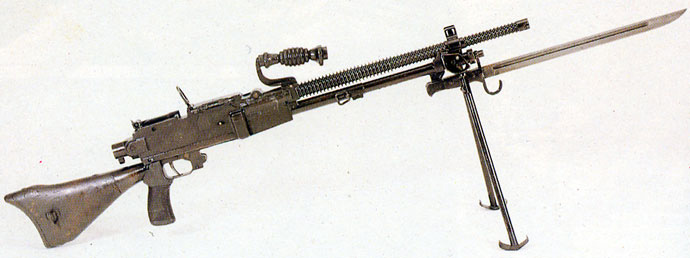rifle: (5, 10, 675, 249)
